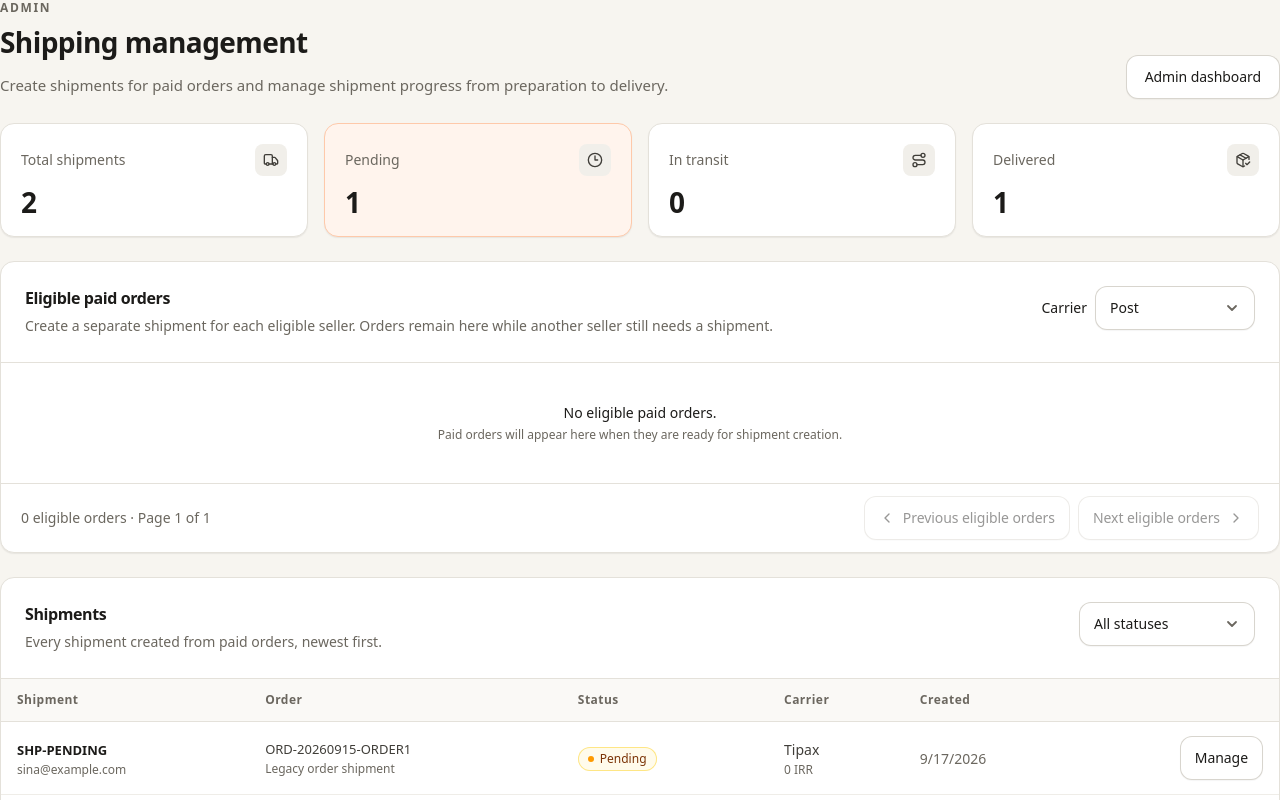
Test case: AdminShipmentsList › filters the shipment list by status
Expected: the link "SHP-PENDING" is shown, [17,741,107,759]
Select "Delivered" in the dropdown named "Shipment status" at (1167, 624), box [1079,602,1255,646]
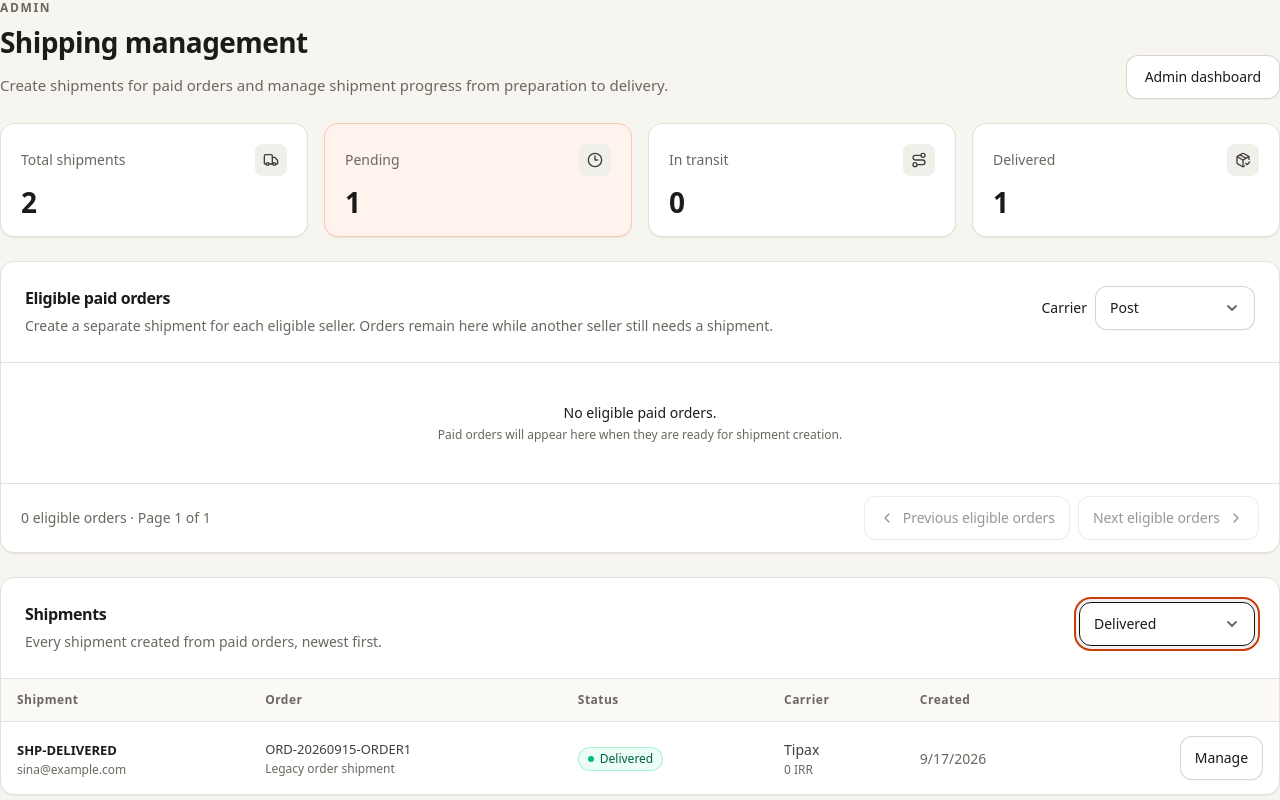
Expected: the link "SHP-DELIVERED" is shown, [17,741,117,759]
Result: the link "SHP-PENDING" is gone
